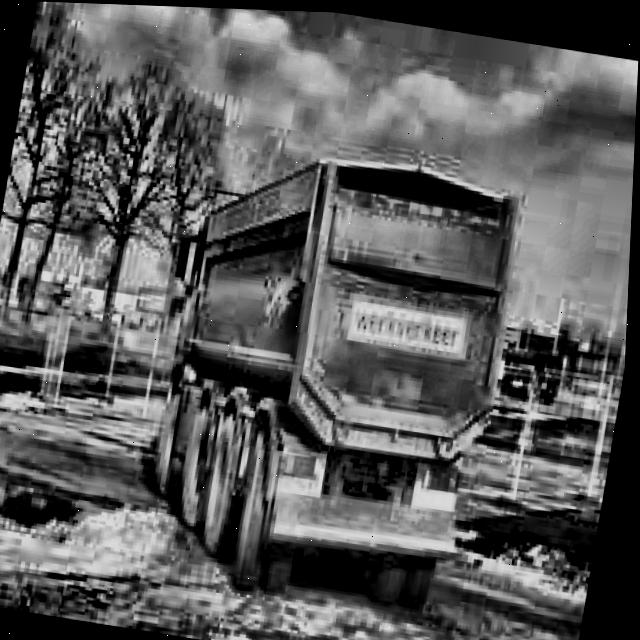dump_truck: (126, 124, 533, 619), (497, 334, 570, 399)
